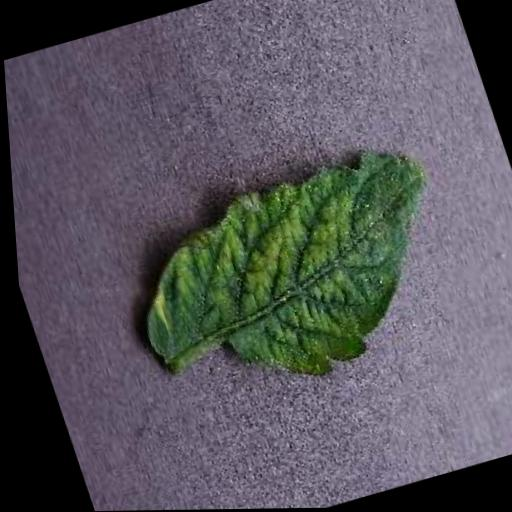Mosaic Virus: (99, 133, 476, 417)
